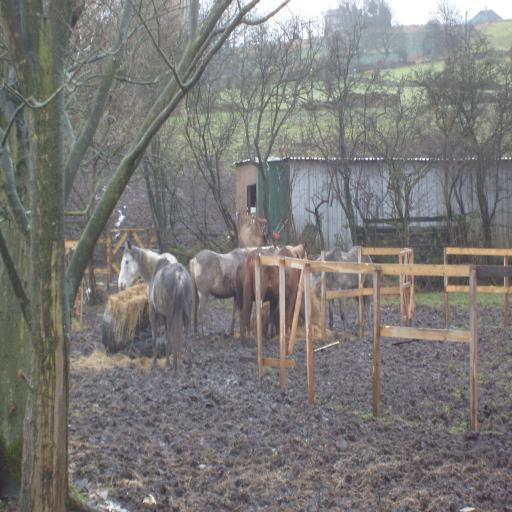horse: (118, 237, 196, 362), (186, 244, 278, 342), (241, 240, 307, 344), (304, 246, 372, 334)
